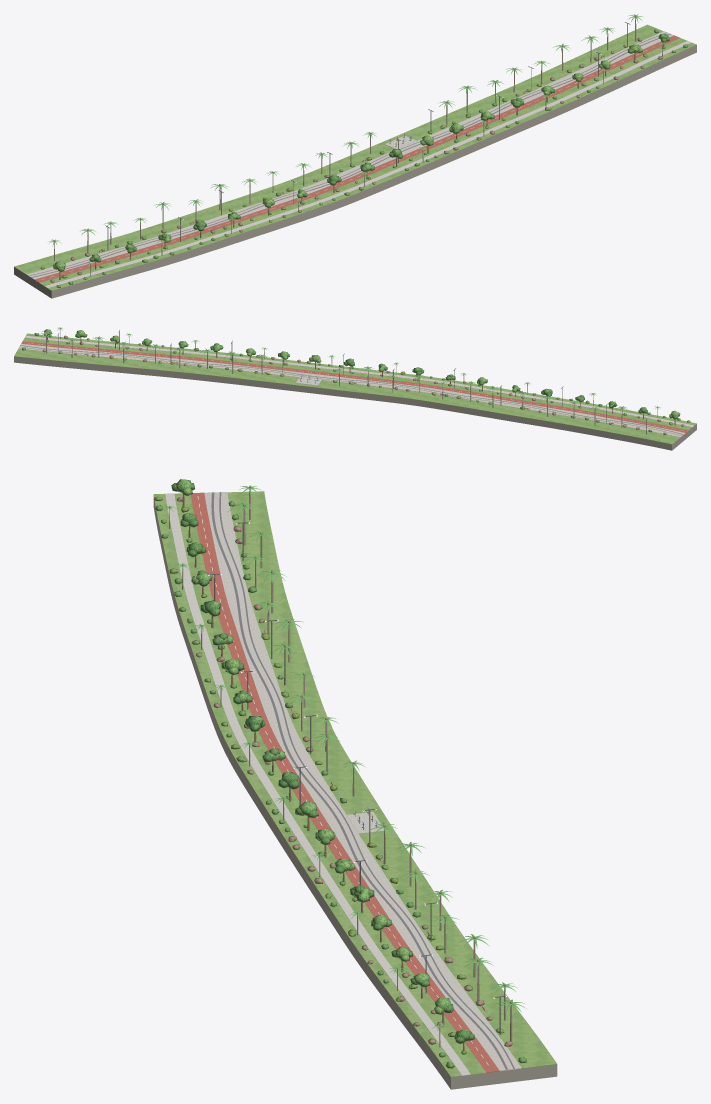
The model's file is parque_15.glb.
3 renders of one model, top to bottom at view 1: azimuth 30°, elevation 25°; view 2: azimuth 150°, elevation 25°; view 3: azimuth 270°, elevation 25°, orthographic. The views are drawn at different scales.
Visible parts, largest first — view 1: parque_15; view 2: parque_15; view 3: parque_15.
Part boxes in pixels (left/top/right/bottom): parque_15: left=14, top=22, right=696, bottom=298; parque_15: left=14, top=329, right=696, bottom=450; parque_15: left=153, top=491, right=557, bottom=1089.
Bounding box in the file's own units: 299 × 13.24 × 87.42.
Materials: 23 (12 with a texture image).
